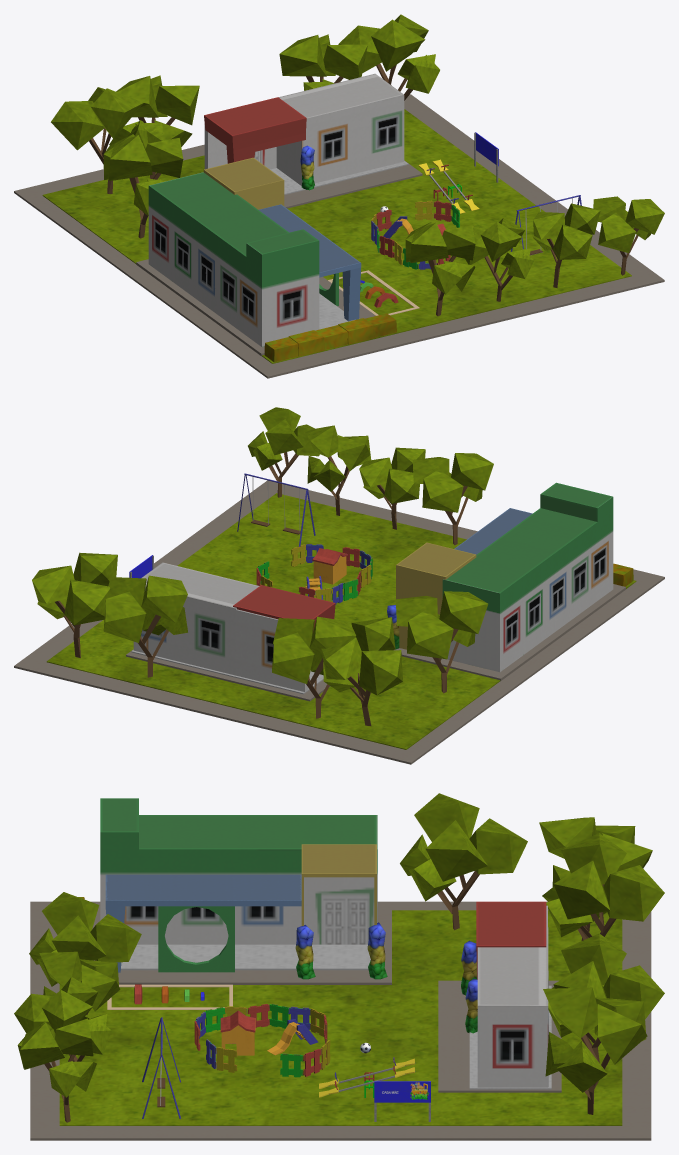
The model's file is casaMaeEvoluçãoMediaLOD0.fbx.
The picture shows the model from 3 angles, top to bottom: view 1: azimuth 30°, elevation 25°; view 2: azimuth 150°, elevation 25°; view 3: azimuth 270°, elevation 25°; orthographic projection. The views are drawn at different scales.
Parts seen in each view (by area): view 1: Casa Mae Evolucao Medio.001; view 2: Casa Mae Evolucao Medio.001; view 3: Casa Mae Evolucao Medio.001.
Boxes of the visible parts, x1,y1,x2,y2 form: Casa Mae Evolucao Medio.001: [14, 14, 664, 378]; Casa Mae Evolucao Medio.001: [14, 407, 664, 764]; Casa Mae Evolucao Medio.001: [14, 793, 664, 1140].
Bounding box in the file's own units: 3769 × 1001 × 4365.
1 material, 1 textured.
